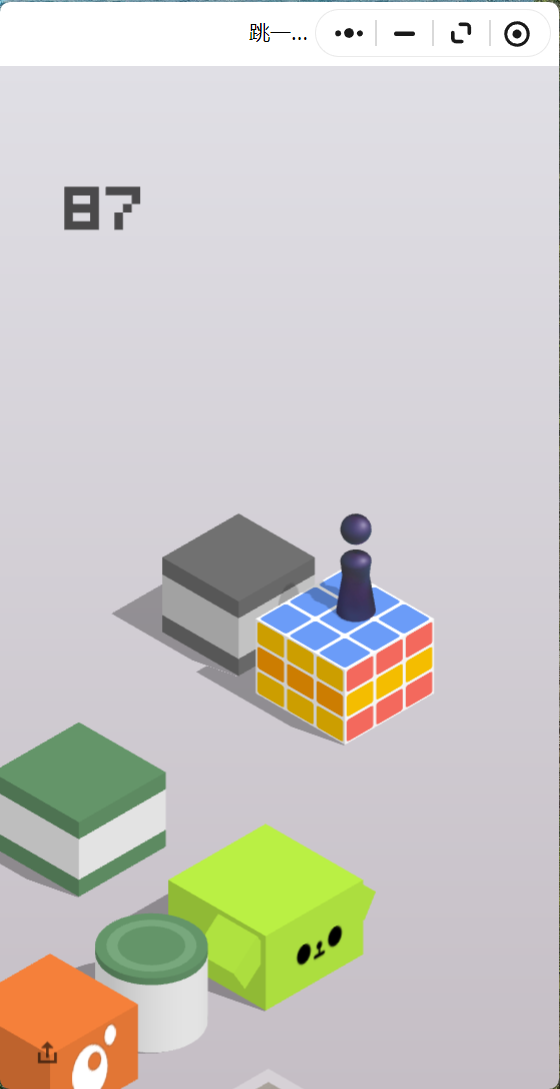piece: (340, 514, 371, 617)
target: (162, 513, 315, 603)
